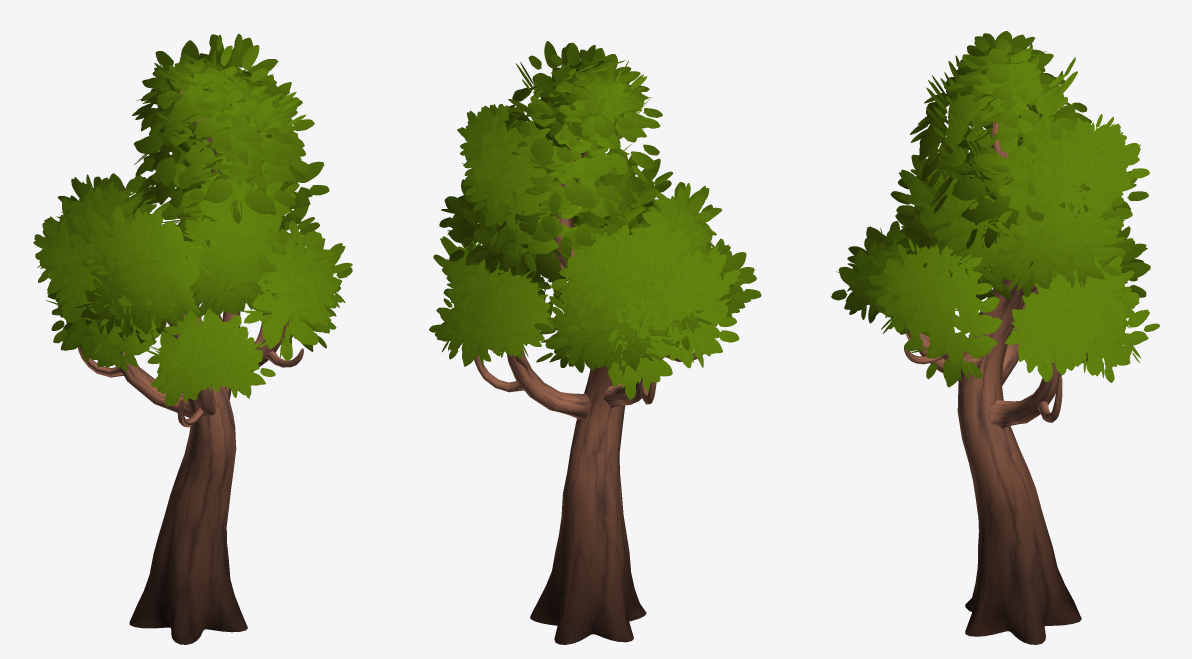
3 views of the same model, side by side, from view 1: azimuth 30°, elevation 25°; view 2: azimuth 150°, elevation 25°; view 3: azimuth 270°, elevation 25° (orthographic). The views are drawn at different scales.
Parts seen in each view (by area): view 1: CommonTree_2; view 2: CommonTree_2; view 3: CommonTree_2.
Part boxes in pixels (x1,y1,x2,y2): CommonTree_2: (33, 34, 352, 644); CommonTree_2: (429, 41, 761, 644); CommonTree_2: (831, 31, 1159, 644).
Size of the model in its own units: 4.46 by 7.64 by 4.28.
Materials: 2 (2 with a texture image).
